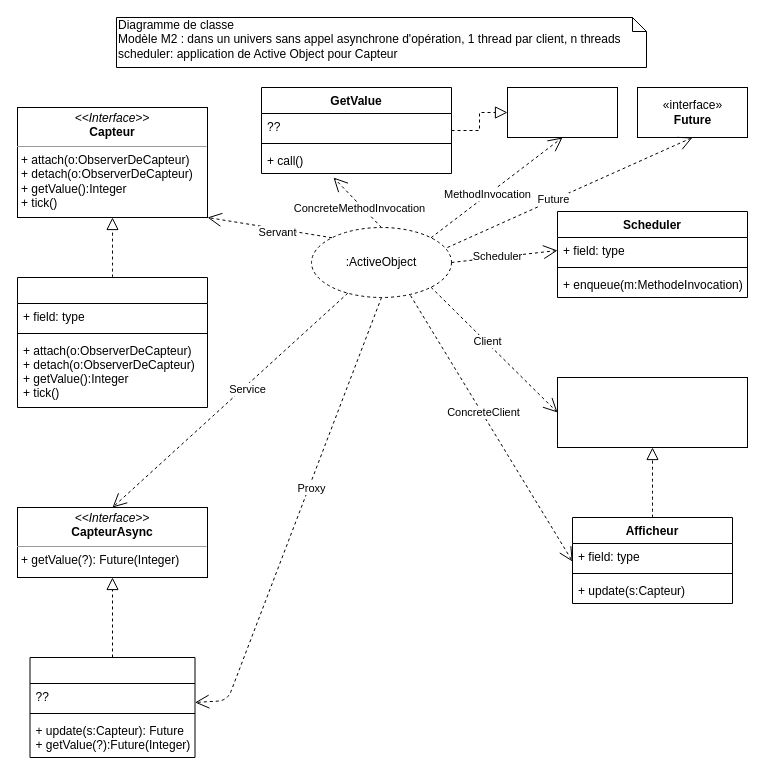
The diagram is 765 pixels wide and 778 high, and some of its shapes have lost their labels. The box of each missing label's shape, as (x1, y1, x2, y2) in pixels:
<<Interface>> ObserverDeCapteur + update(s:Capteur): (556, 376, 748, 448)
Canal: (29, 656, 195, 758)
CapteurImpl: (16, 276, 208, 408)
«interface» MethodInvocation: (506, 86, 618, 138)
